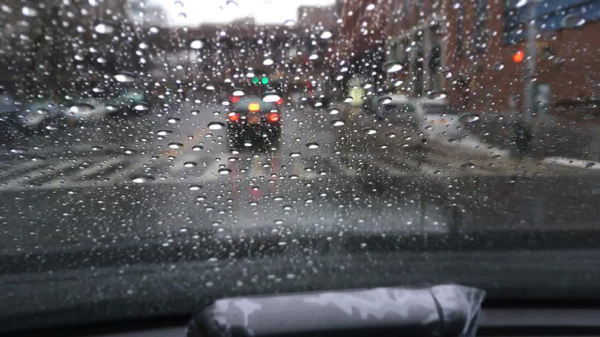car: (374, 101, 468, 144), (226, 95, 281, 148), (22, 98, 74, 132), (0, 95, 30, 143), (63, 98, 115, 125), (359, 92, 406, 116), (111, 89, 152, 116), (309, 91, 331, 110)
traffic light: (534, 46, 556, 66), (513, 48, 528, 68), (261, 75, 270, 86), (251, 74, 258, 85)
